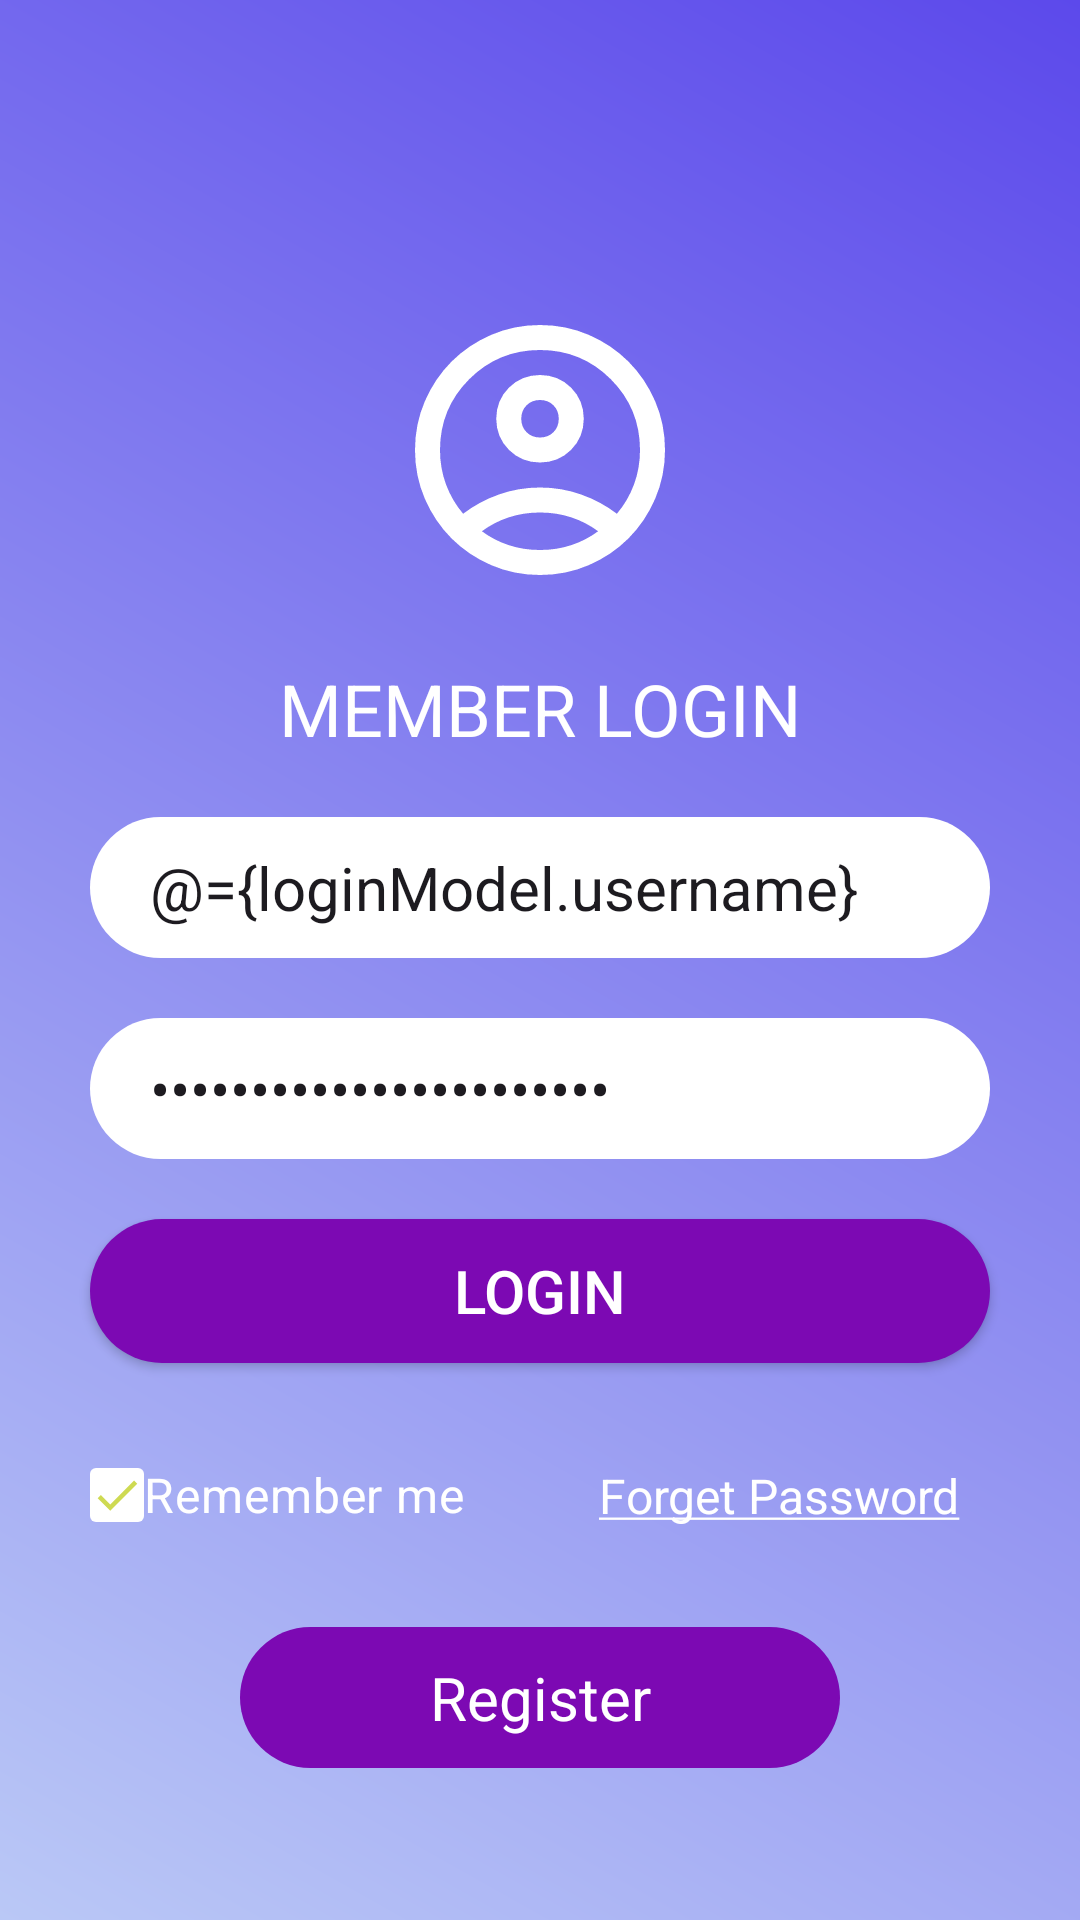

Icon bounding boxes for this 1080w x 1920h phone screenshot, format (x1, y1, x2, y2):
account circle: (415, 325, 665, 575)
